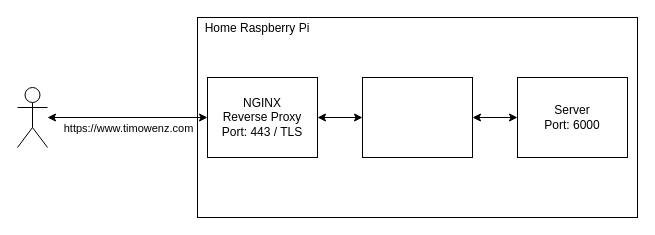
Image size: 655x235. Some labels were removed from this diagram. The shapes that lost their labels are listed below. From the top down, each one's centre as x and y in pixels, then its label:
(32,117): User
(417,117): Client Port: 5000
